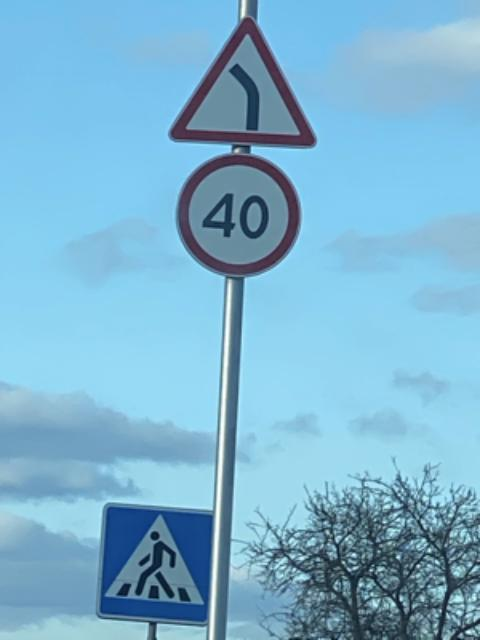crosswalk-sign: (96, 500, 217, 626)
